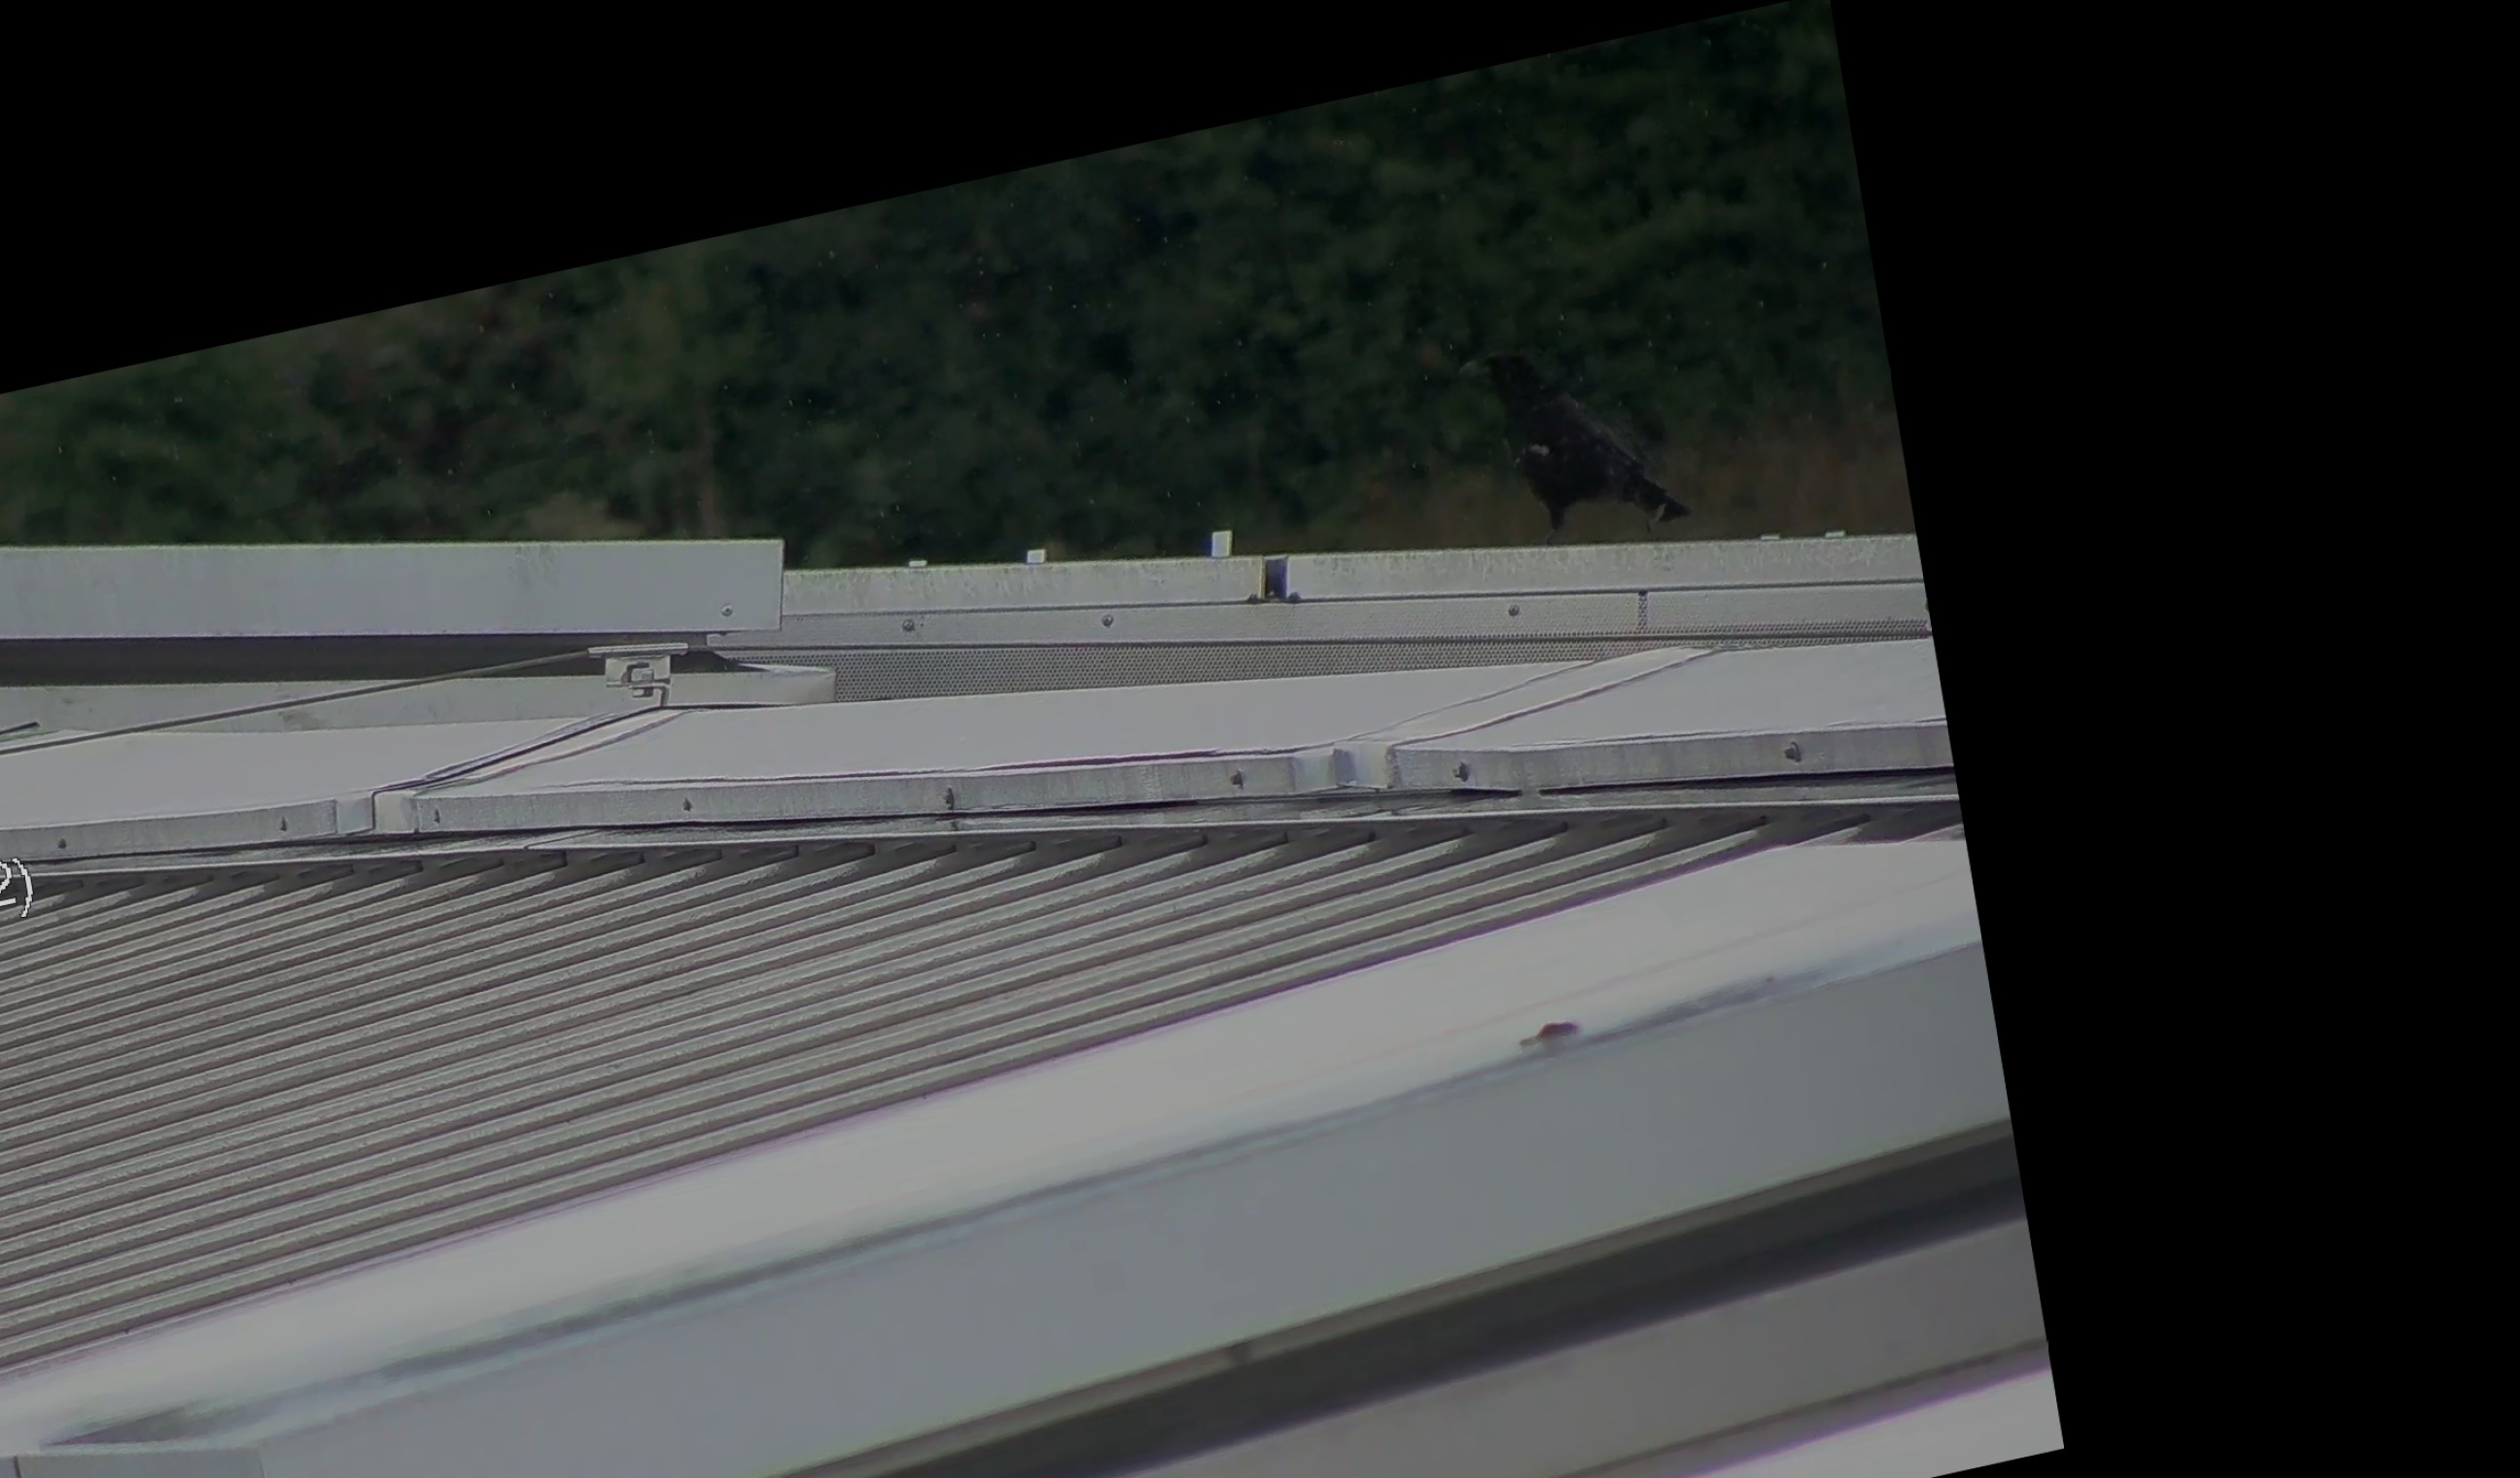Other: (1468, 311, 1706, 565)
